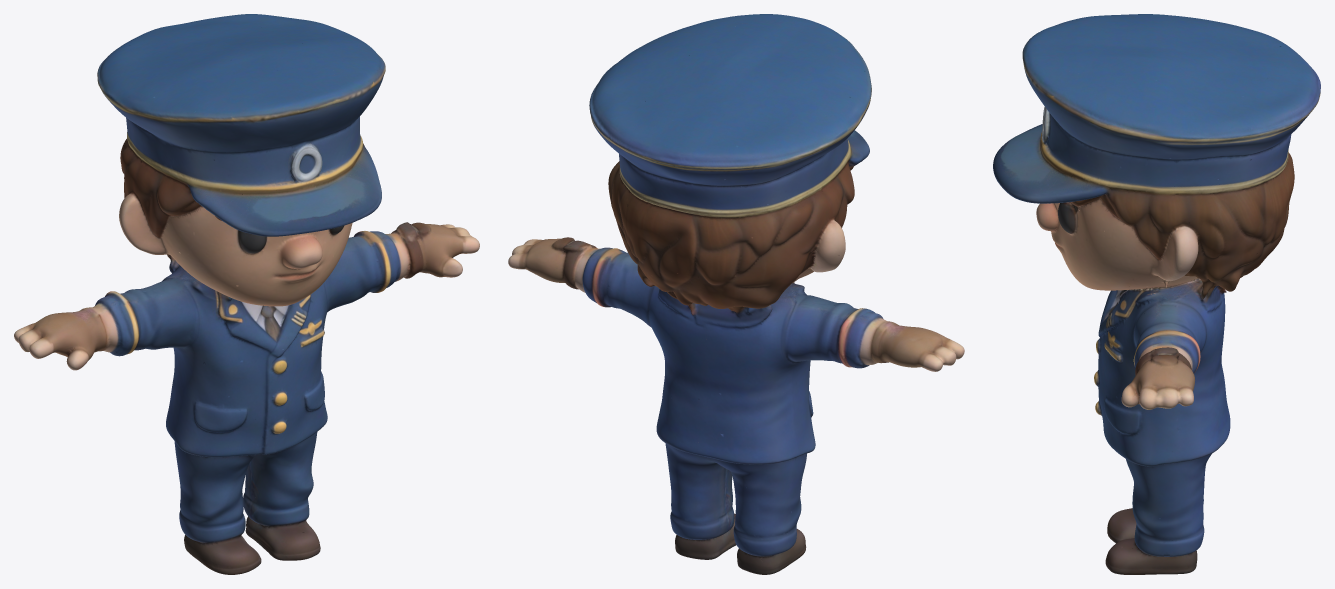
The model's file is Meshy_AI_TrainDriver_0426170844_texture.fbx.
The picture shows the model from 3 angles, left to right: view 1: azimuth 30°, elevation 25°; view 2: azimuth 150°, elevation 25°; view 3: azimuth 270°, elevation 25°; orthographic projection. The views are drawn at different scales.
Parts seen in each view (by area): view 1: Mesh_0; view 2: Mesh_0; view 3: Mesh_0.
Boxes of the visible parts, bbox=[...] form: Mesh_0: bbox=[14, 14, 479, 574]; Mesh_0: bbox=[508, 14, 964, 574]; Mesh_0: bbox=[993, 14, 1320, 574].
Size of the model in its own units: 188 by 200 by 119.
1 material, 1 textured.
